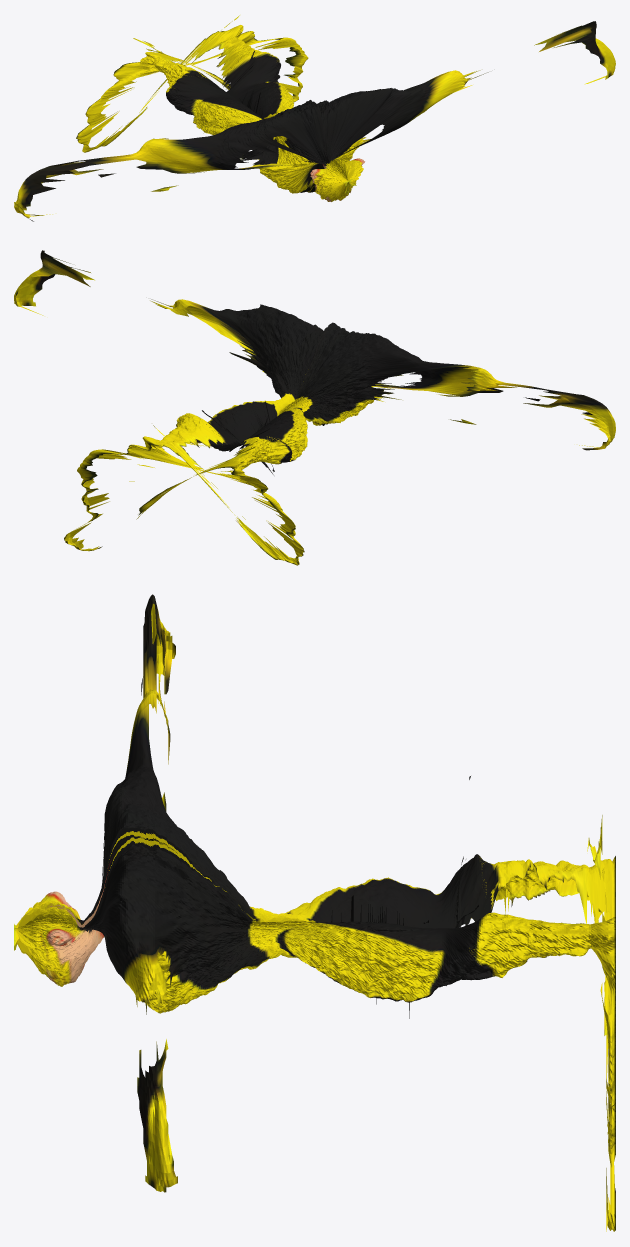
3 renders of one model, top to bottom at view 1: azimuth 30°, elevation 25°; view 2: azimuth 150°, elevation 25°; view 3: azimuth 270°, elevation 25°, orthographic. The views are drawn at different scales.
Visible parts, largest first — view 1: geometry_0; view 2: geometry_0; view 3: geometry_0.
Boxes of the visible parts, x1,y1,x2,y2 form: geometry_0: (14,15,615,221); geometry_0: (14,250,615,565); geometry_0: (14,594,615,1231).
Bounding box in the file's own units: 1.92 × 0.5183 × 0.9158.
1 material, 1 textured.
